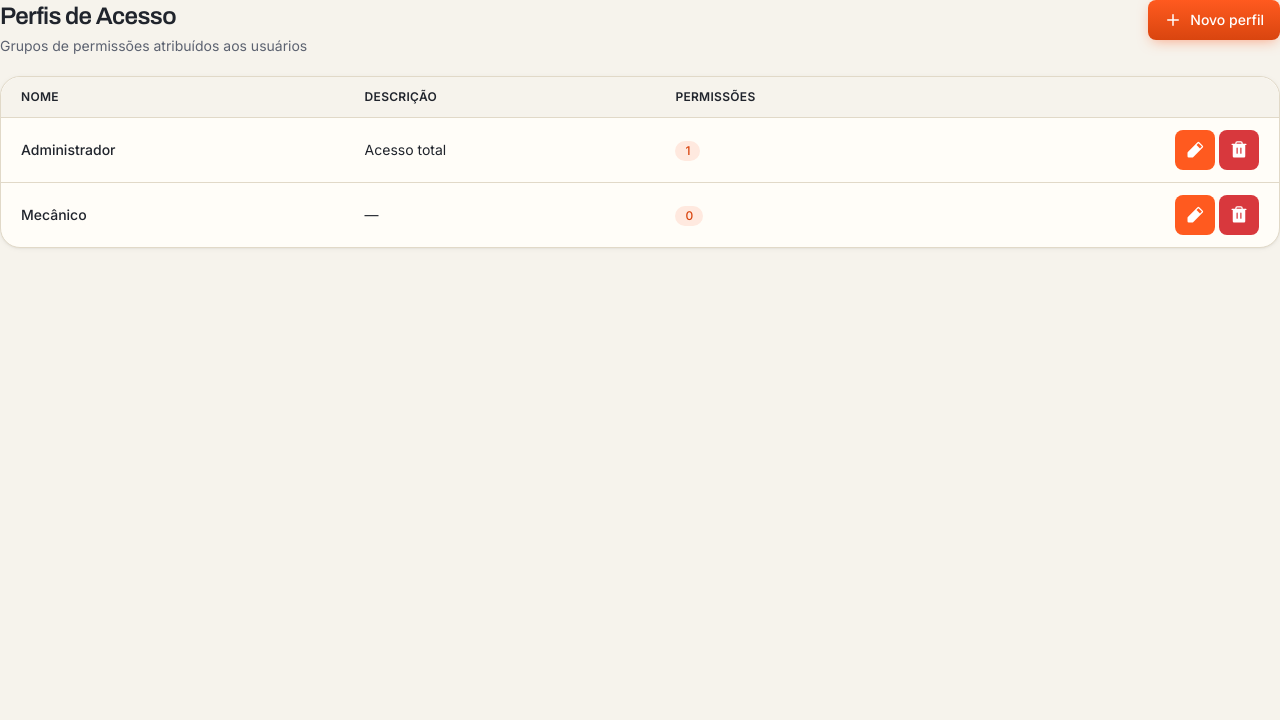
Test: PerfisPage › opens the create modal from "Novo perfil"
The width and height of the screenshot is (1280, 720).
Click the button "Novo perfil" at (1214, 20), box [1148,0,1279,40]
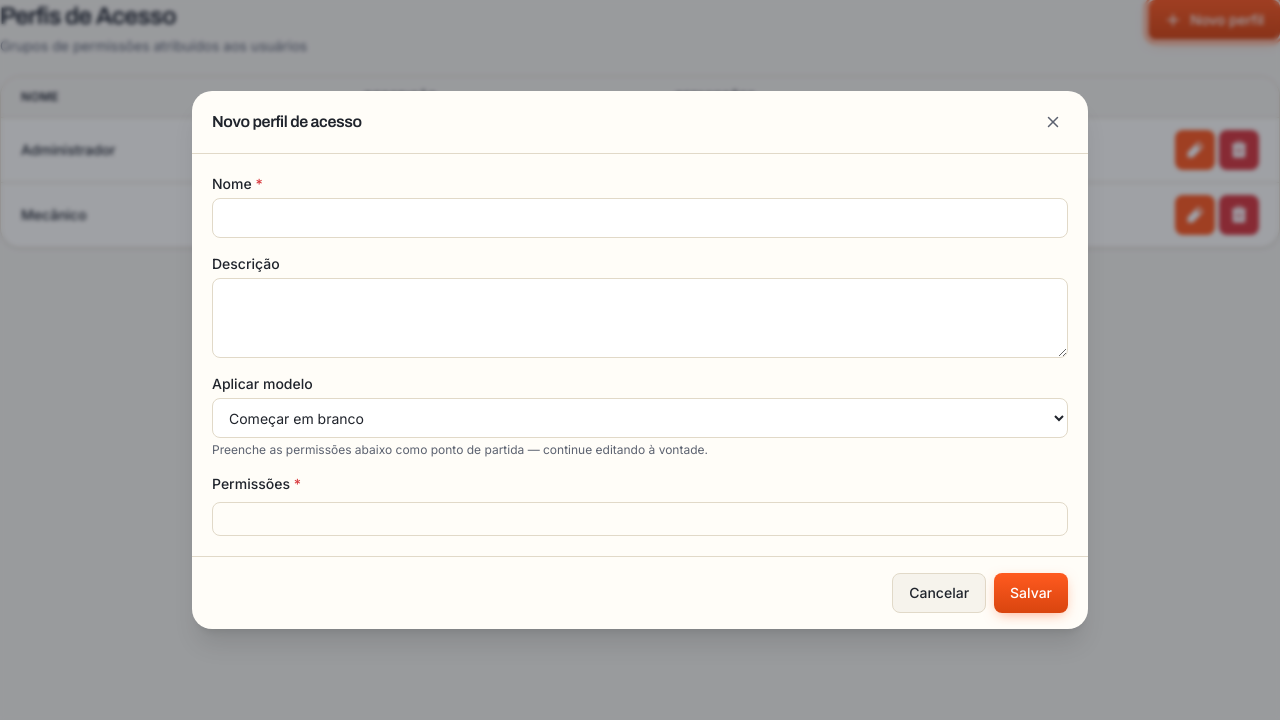
Check: the heading "Novo perfil de acesso" is shown, box [212,110,362,134]
